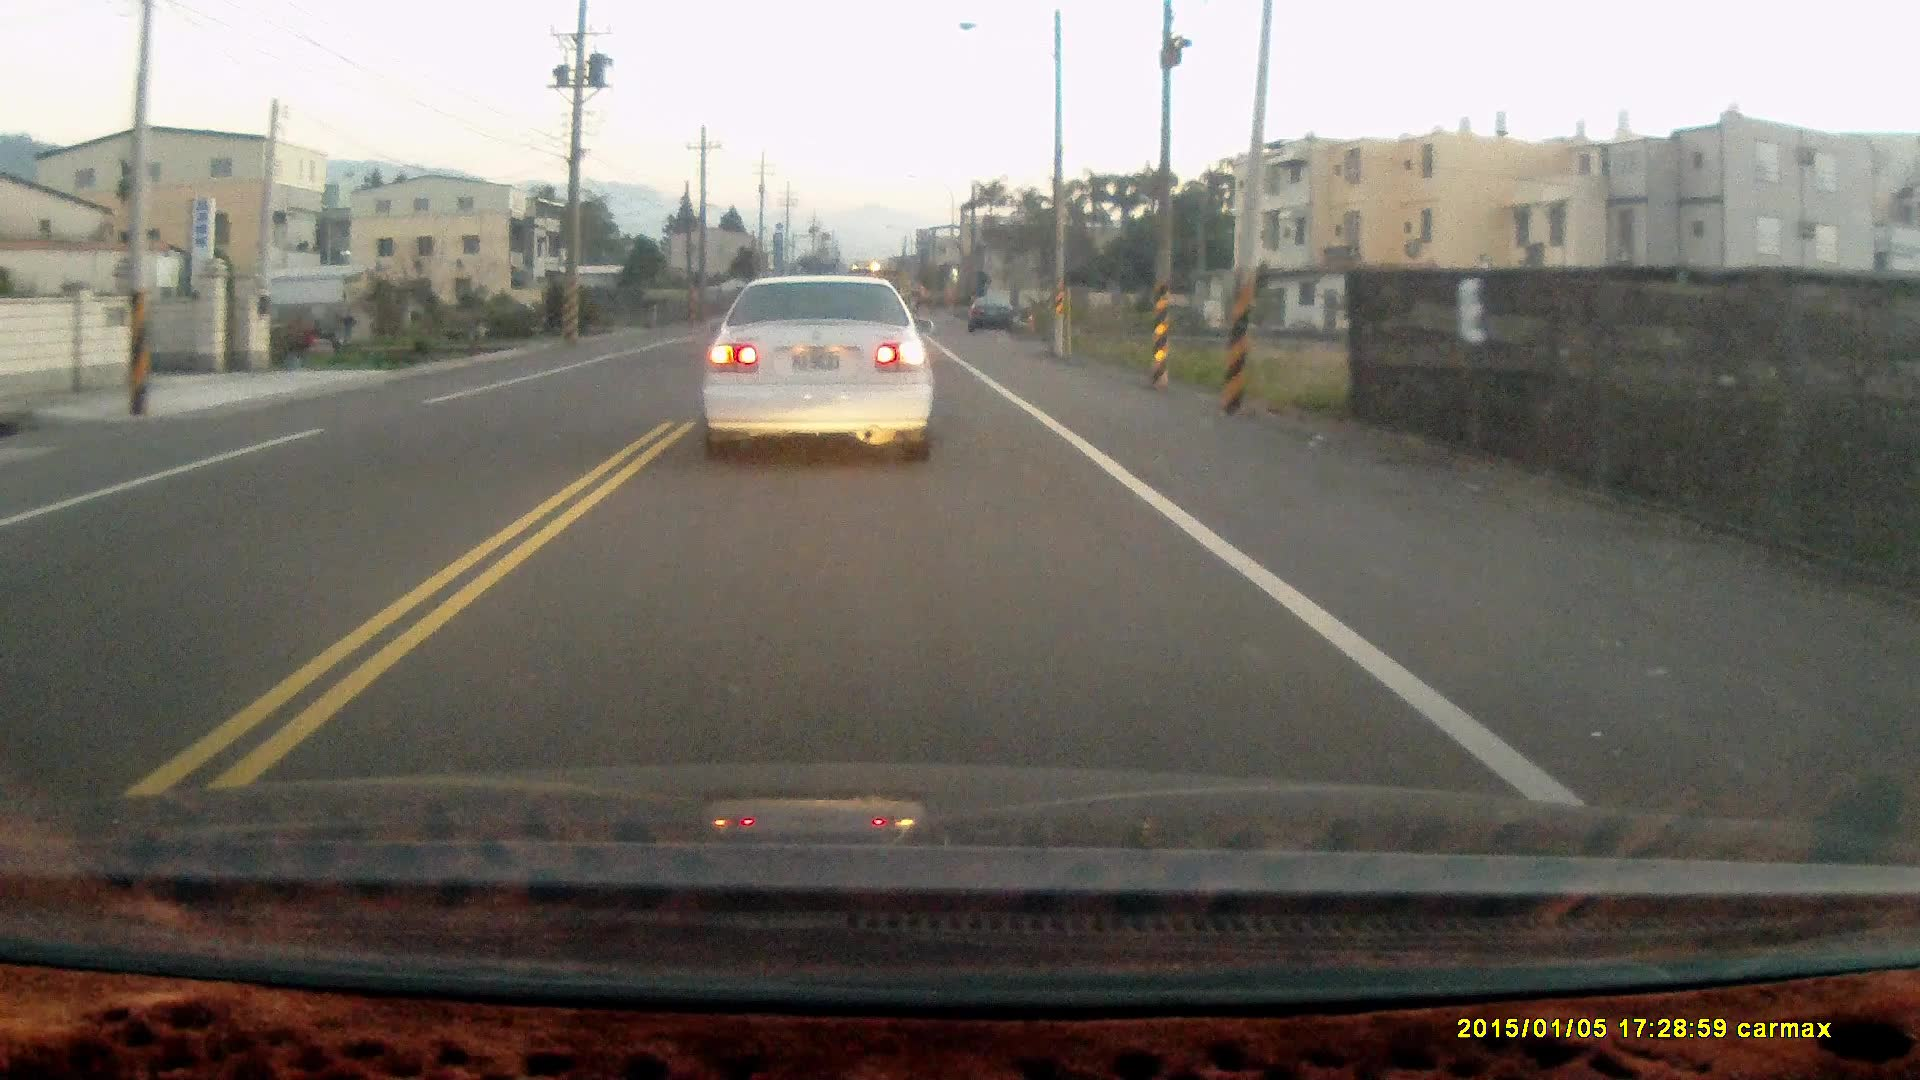vehicle: (702, 276, 939, 476), (967, 295, 1018, 339)
